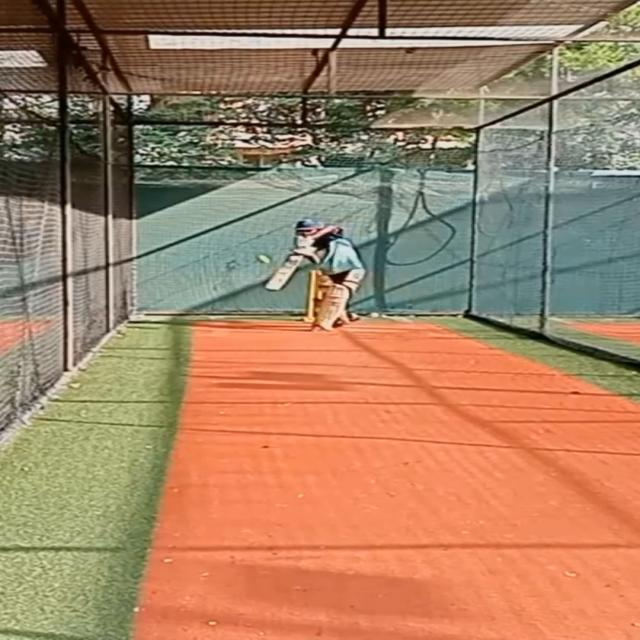ball: (253, 254, 276, 268)
